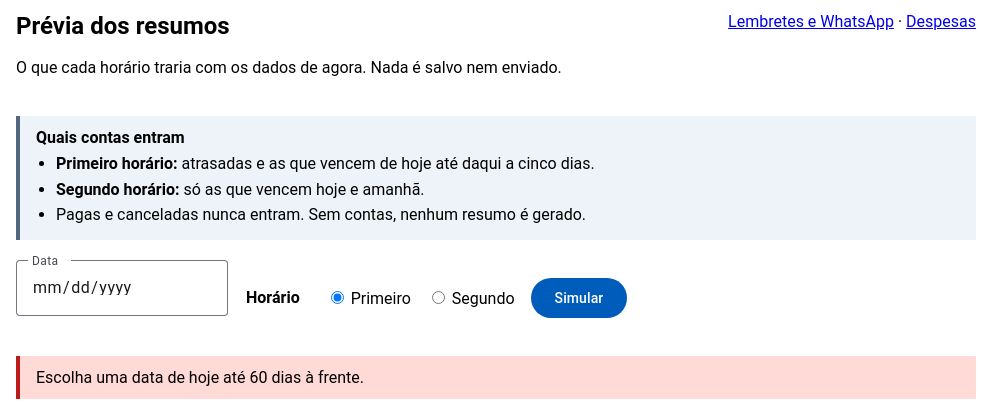
Scenario: Reminder summaries (H08.2) › shows the server message for an invalid date and asks to sign in without a session
Click the button "Simular" at x=579, y=298, box [531,278,627,318]
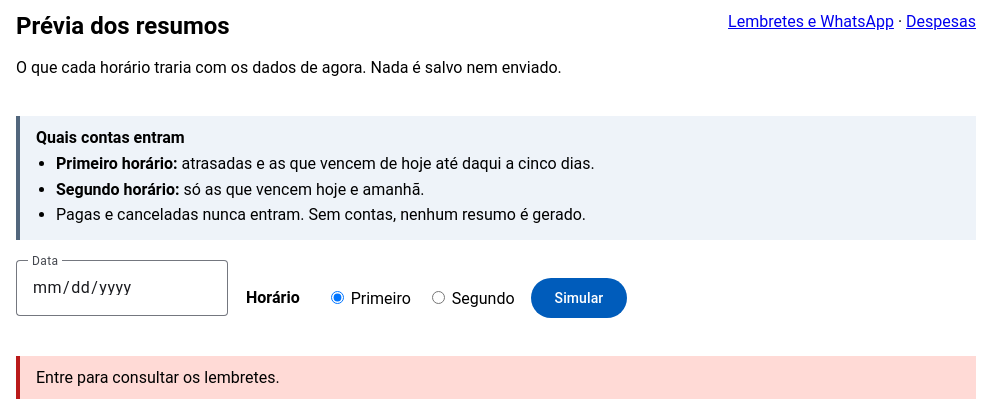
Expected: the text "Entre para consultar" is shown, [36,368,280,387]
